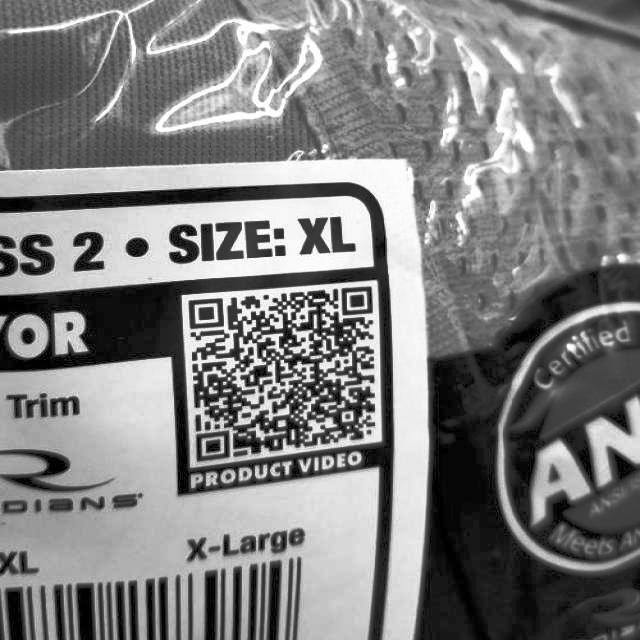qr_code: (178, 266, 390, 472)
